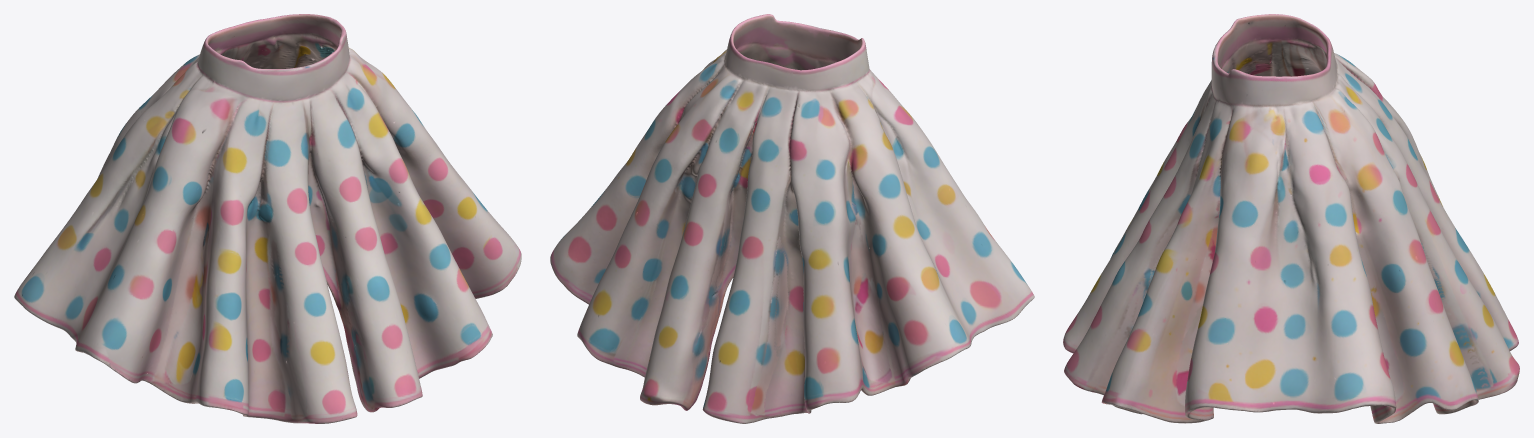
Rendered from skirt.glb.
3 views of the same model, side by side, from view 1: azimuth 30°, elevation 25°; view 2: azimuth 150°, elevation 25°; view 3: azimuth 270°, elevation 25° (orthographic). The views are drawn at different scales.
Bounding box in the file's own units: 65638 × 46982 × 58450.
Materials: 1 (1 with a texture image).
